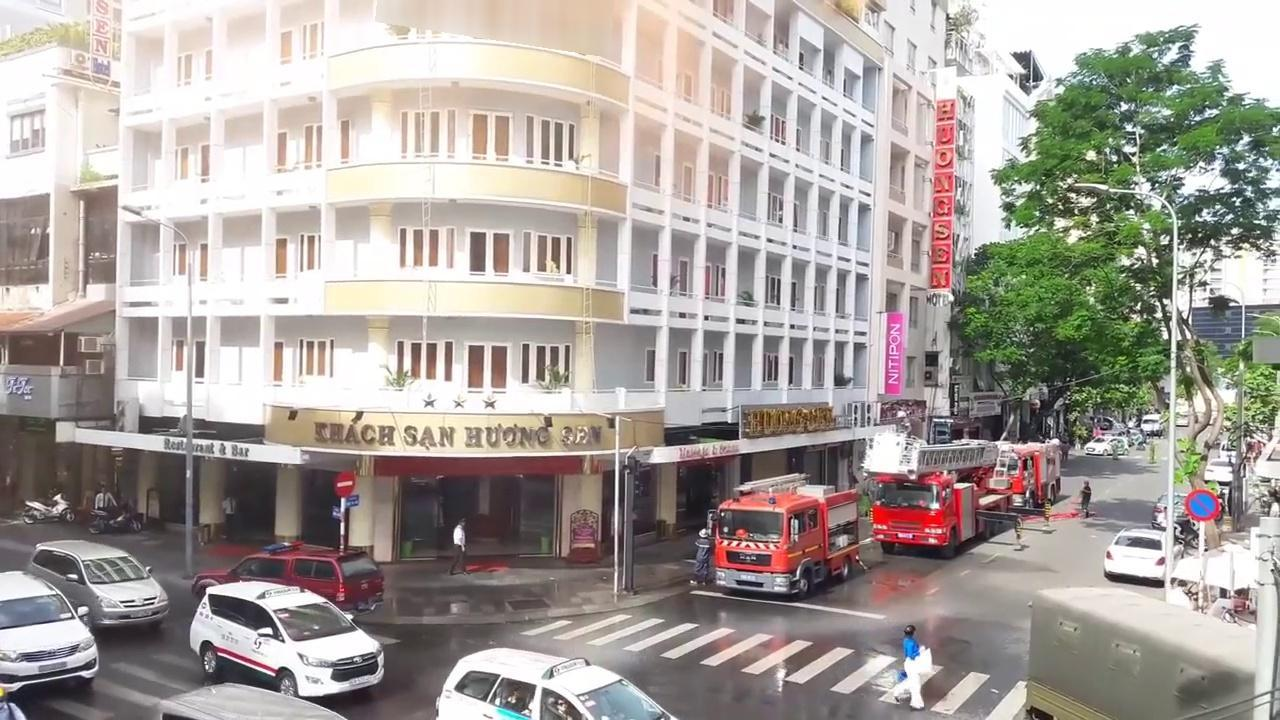xe cuu hoa: (706, 473, 856, 600), (863, 432, 1012, 557)
xe hoi: (189, 580, 383, 697), (434, 648, 677, 720), (191, 540, 383, 608), (25, 538, 168, 626), (0, 570, 99, 690), (1103, 526, 1166, 580)
